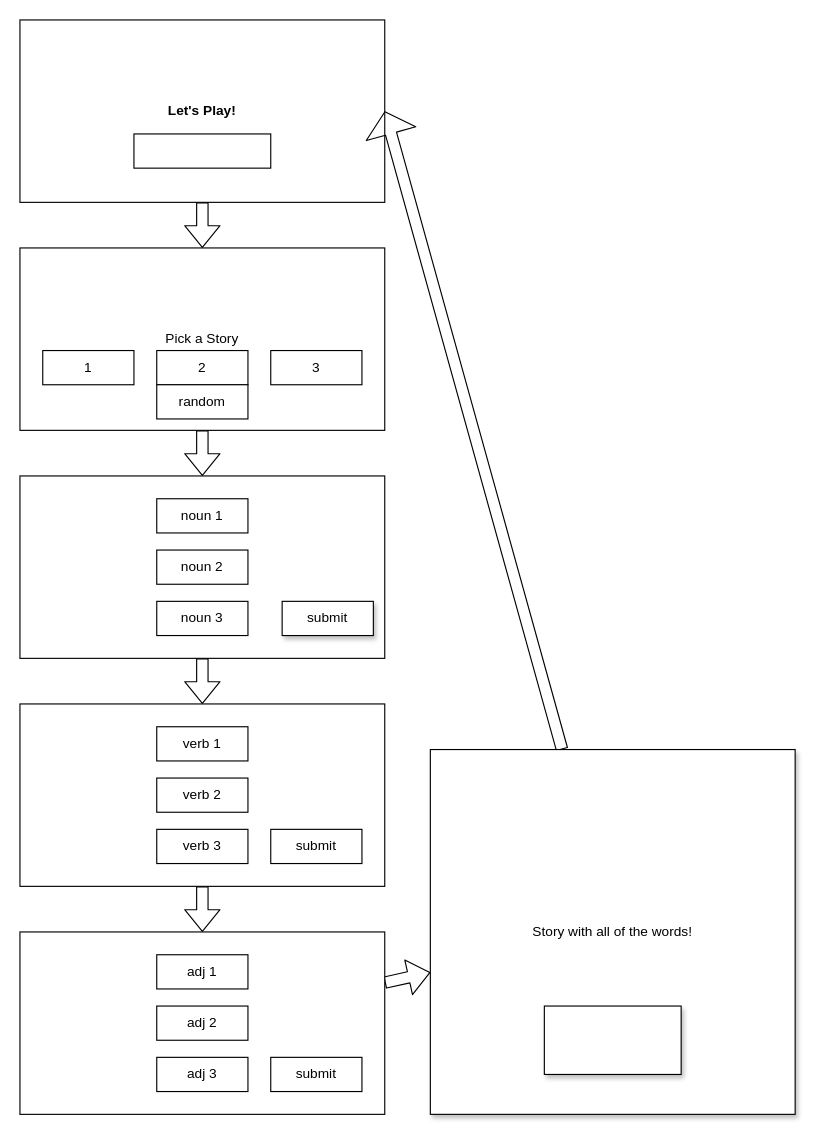
The diagram is 822 pixels wide and 1142 high, and some of its shapes have lost their labels. Each missing label, with the centre of its shape:
"continue" goes at point 202,150.
"Start a new story!" goes at point 613,1041.
